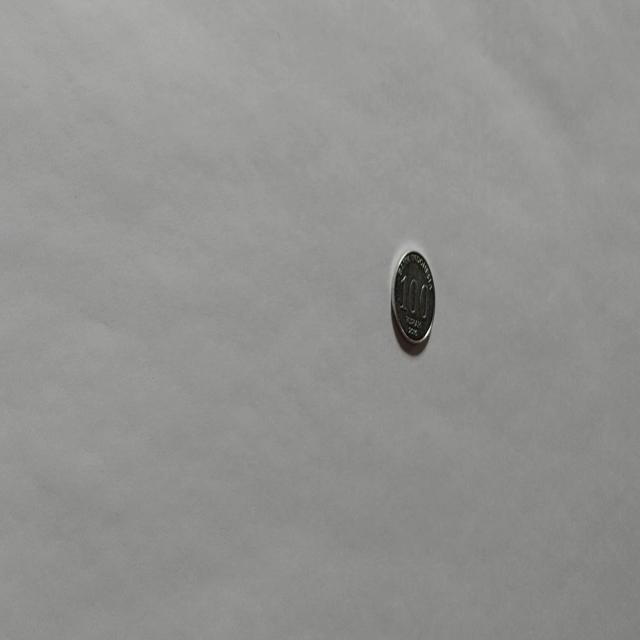seratus rupiah: (390, 248, 436, 348)
